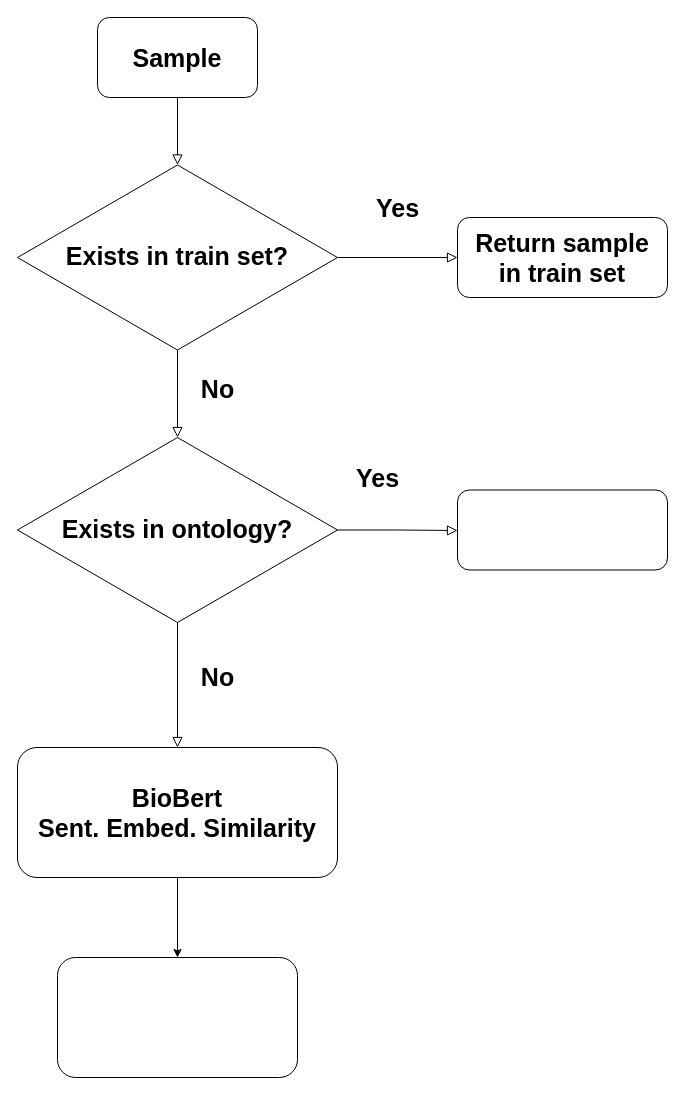
Some shapes in this 685 by 1095 pixel diagram are drawn without their labels. The shapes that lost their labels are listed below. From the top down, each one's centre as x and y in pixels, then its label:
At (562,529): "Return sample in ontology".
At (177,1017): "Most Similar Term".
